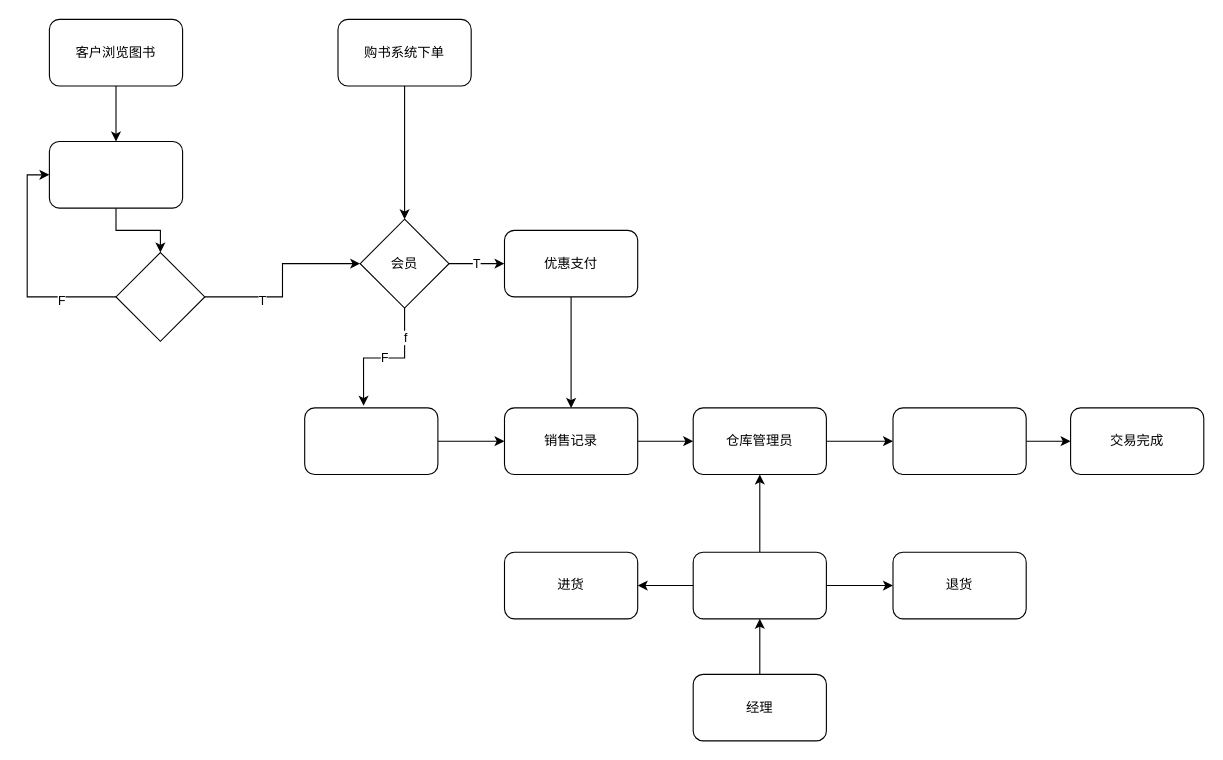
The diagram is 1223 pixels wide and 760 high, and some of its shapes have lost their labels. Each missing label, with the box of its shape:
书目检索: (48, 140, 183, 208)
仓库管理处理: (692, 551, 826, 619)
出书: (892, 407, 1026, 475)
是否注册？: (115, 251, 205, 341)
非会员按标价支付: (304, 407, 438, 475)
